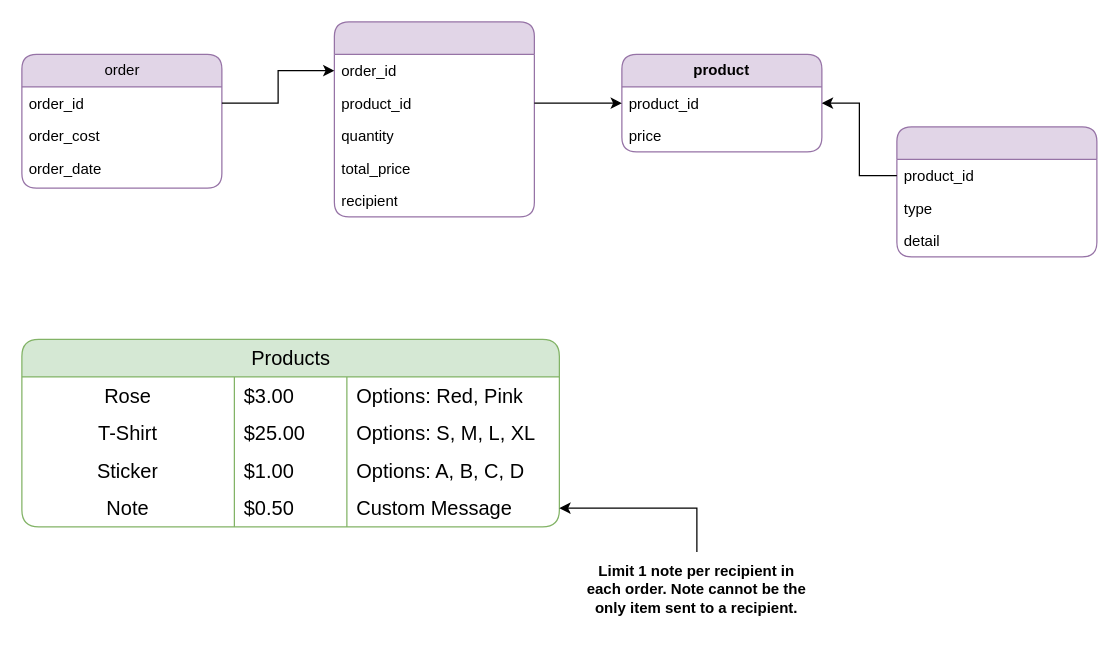
This 1119x649 diagram has some shape labels left out. Each missing label, with the box of its shape:
option: (896, 126, 1097, 257)
order_item: (333, 21, 534, 217)
